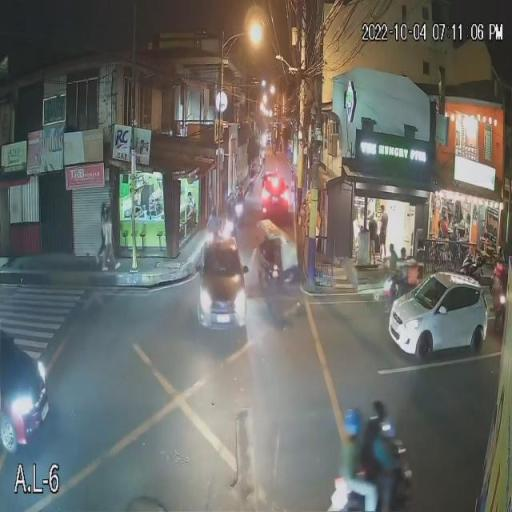helmet: (344, 407, 364, 437), (366, 400, 391, 424), (236, 186, 246, 193), (400, 248, 406, 259)
motorcycle: (328, 446, 416, 512), (380, 278, 415, 310), (238, 198, 250, 223), (224, 220, 239, 239)
rider: (365, 396, 397, 466), (337, 400, 363, 473), (394, 246, 412, 280), (227, 199, 236, 222), (237, 184, 246, 202)
